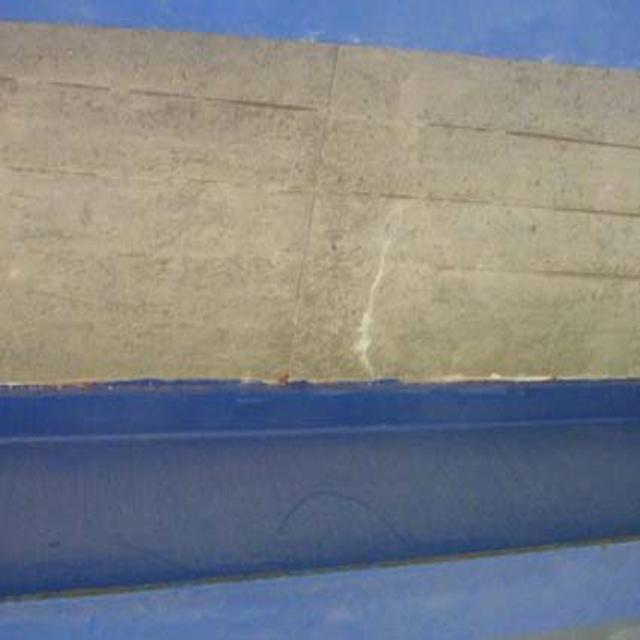freelime: (350, 240, 394, 383)
